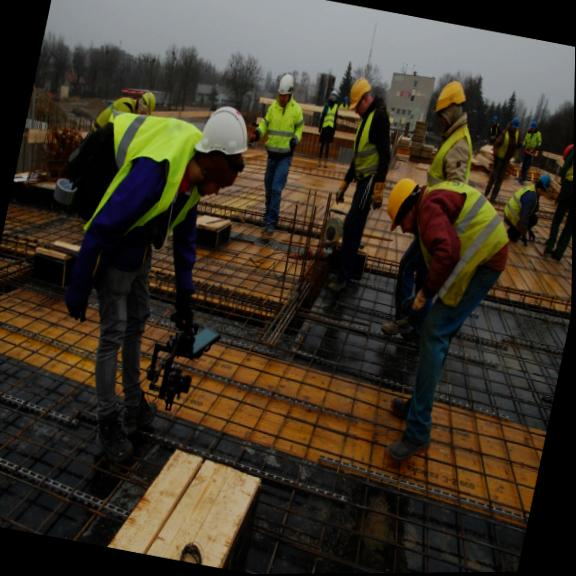safety_vest: (405, 170, 514, 307), (91, 105, 200, 241), (343, 105, 389, 187), (261, 95, 300, 149)
